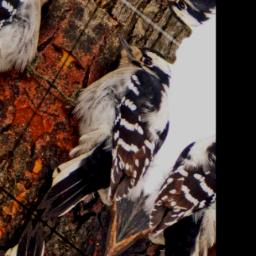Woodpecker: (0, 1, 206, 256)
